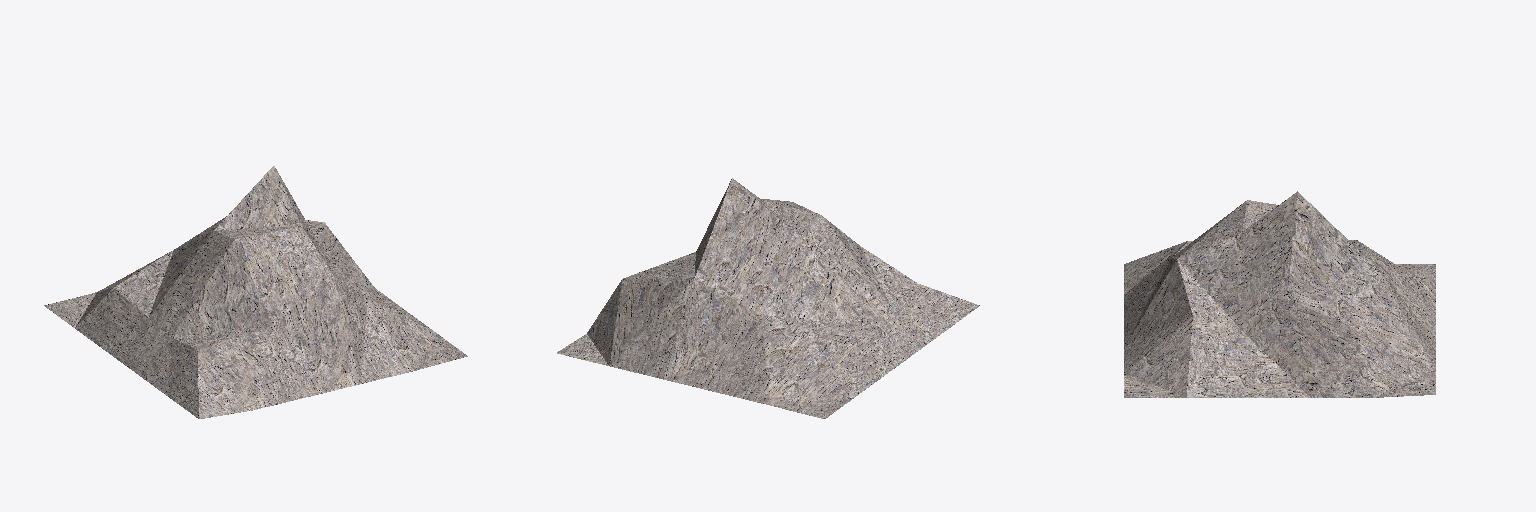
3 renders of one model, left to right at view 1: azimuth 30°, elevation 25°; view 2: azimuth 150°, elevation 25°; view 3: azimuth 270°, elevation 25°, orthographic.
Visible parts, largest first — view 1: pPlane1; view 2: pPlane1; view 3: pPlane1.
Boxes of the visible parts, <box> form: pPlane1: <box>44,166,467,418</box>; pPlane1: <box>557,178,979,418</box>; pPlane1: <box>1124,191,1435,397</box>.
Size of the model in its own units: 9 by 4.97 by 9.
1 materials, 1 textured.